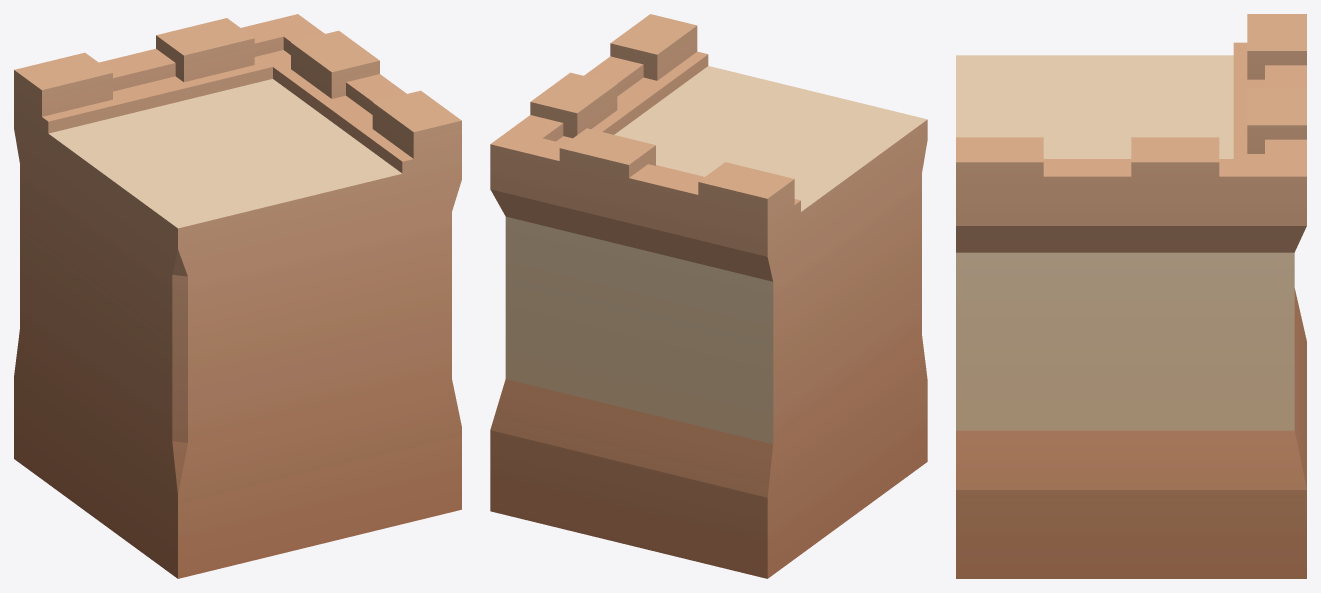
File: kenney-castle-wall-corner-half.glb
3 renders of one model, left to right at view 1: azimuth 30°, elevation 25°; view 2: azimuth 150°, elevation 25°; view 3: azimuth 270°, elevation 25°, orthographic. The views are drawn at different scales.
Visible parts, largest first — view 1: wall-corner-half; view 2: wall-corner-half; view 3: wall-corner-half.
Part boxes in pixels (x1,y1,x2,y2): wall-corner-half: (14,14,461,578); wall-corner-half: (490,14,927,578); wall-corner-half: (956,14,1306,578).
Bounding box in the file's own units: 1 × 1.31 × 1.
Materials: 1 (1 with a texture image).
